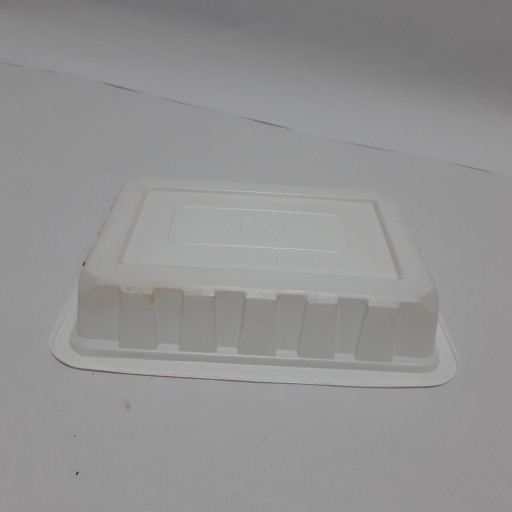Plastic_4: (50, 170, 458, 391)
